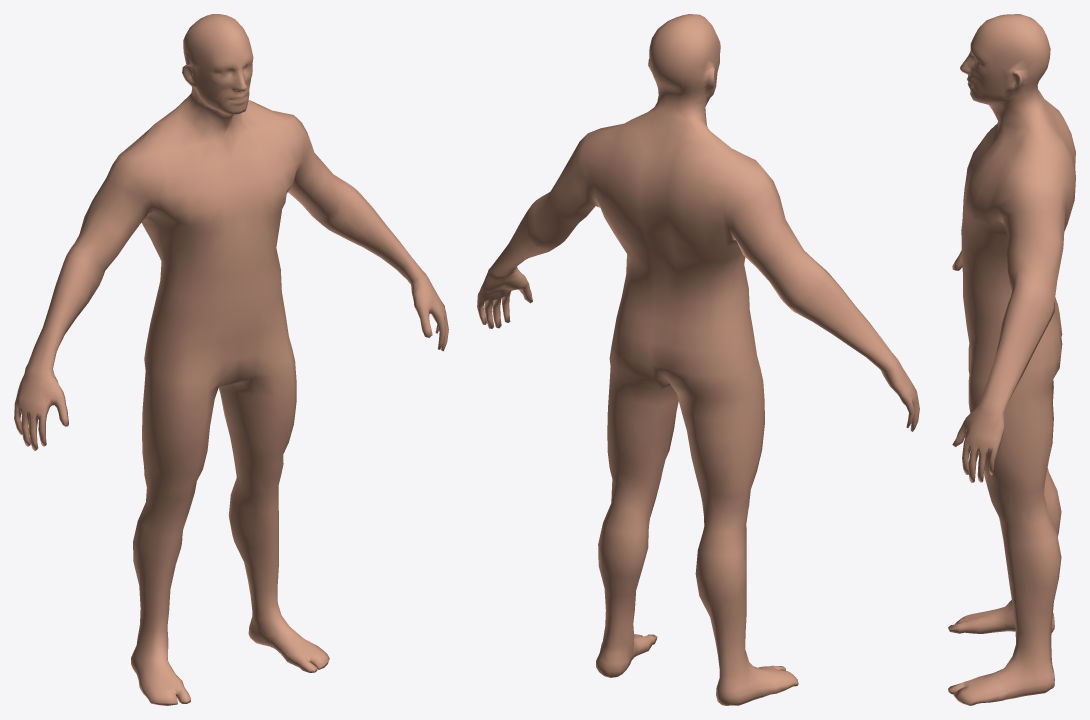
The model's file is malebody_with_base_color.glb.
The picture shows the model from 3 angles, left to right: view 1: azimuth 30°, elevation 25°; view 2: azimuth 150°, elevation 25°; view 3: azimuth 270°, elevation 25°; orthographic projection. The views are drawn at different scales.
Parts seen in each view (by area): view 1: MaleBaseMesh; view 2: MaleBaseMesh; view 3: MaleBaseMesh.
Boxes of the visible parts, x1,y1,x2,y2 form: MaleBaseMesh: [14, 14, 448, 705]; MaleBaseMesh: [477, 14, 919, 705]; MaleBaseMesh: [948, 14, 1075, 705].
Size of the model in its own units: 1.3 by 1.88 by 0.3366.
